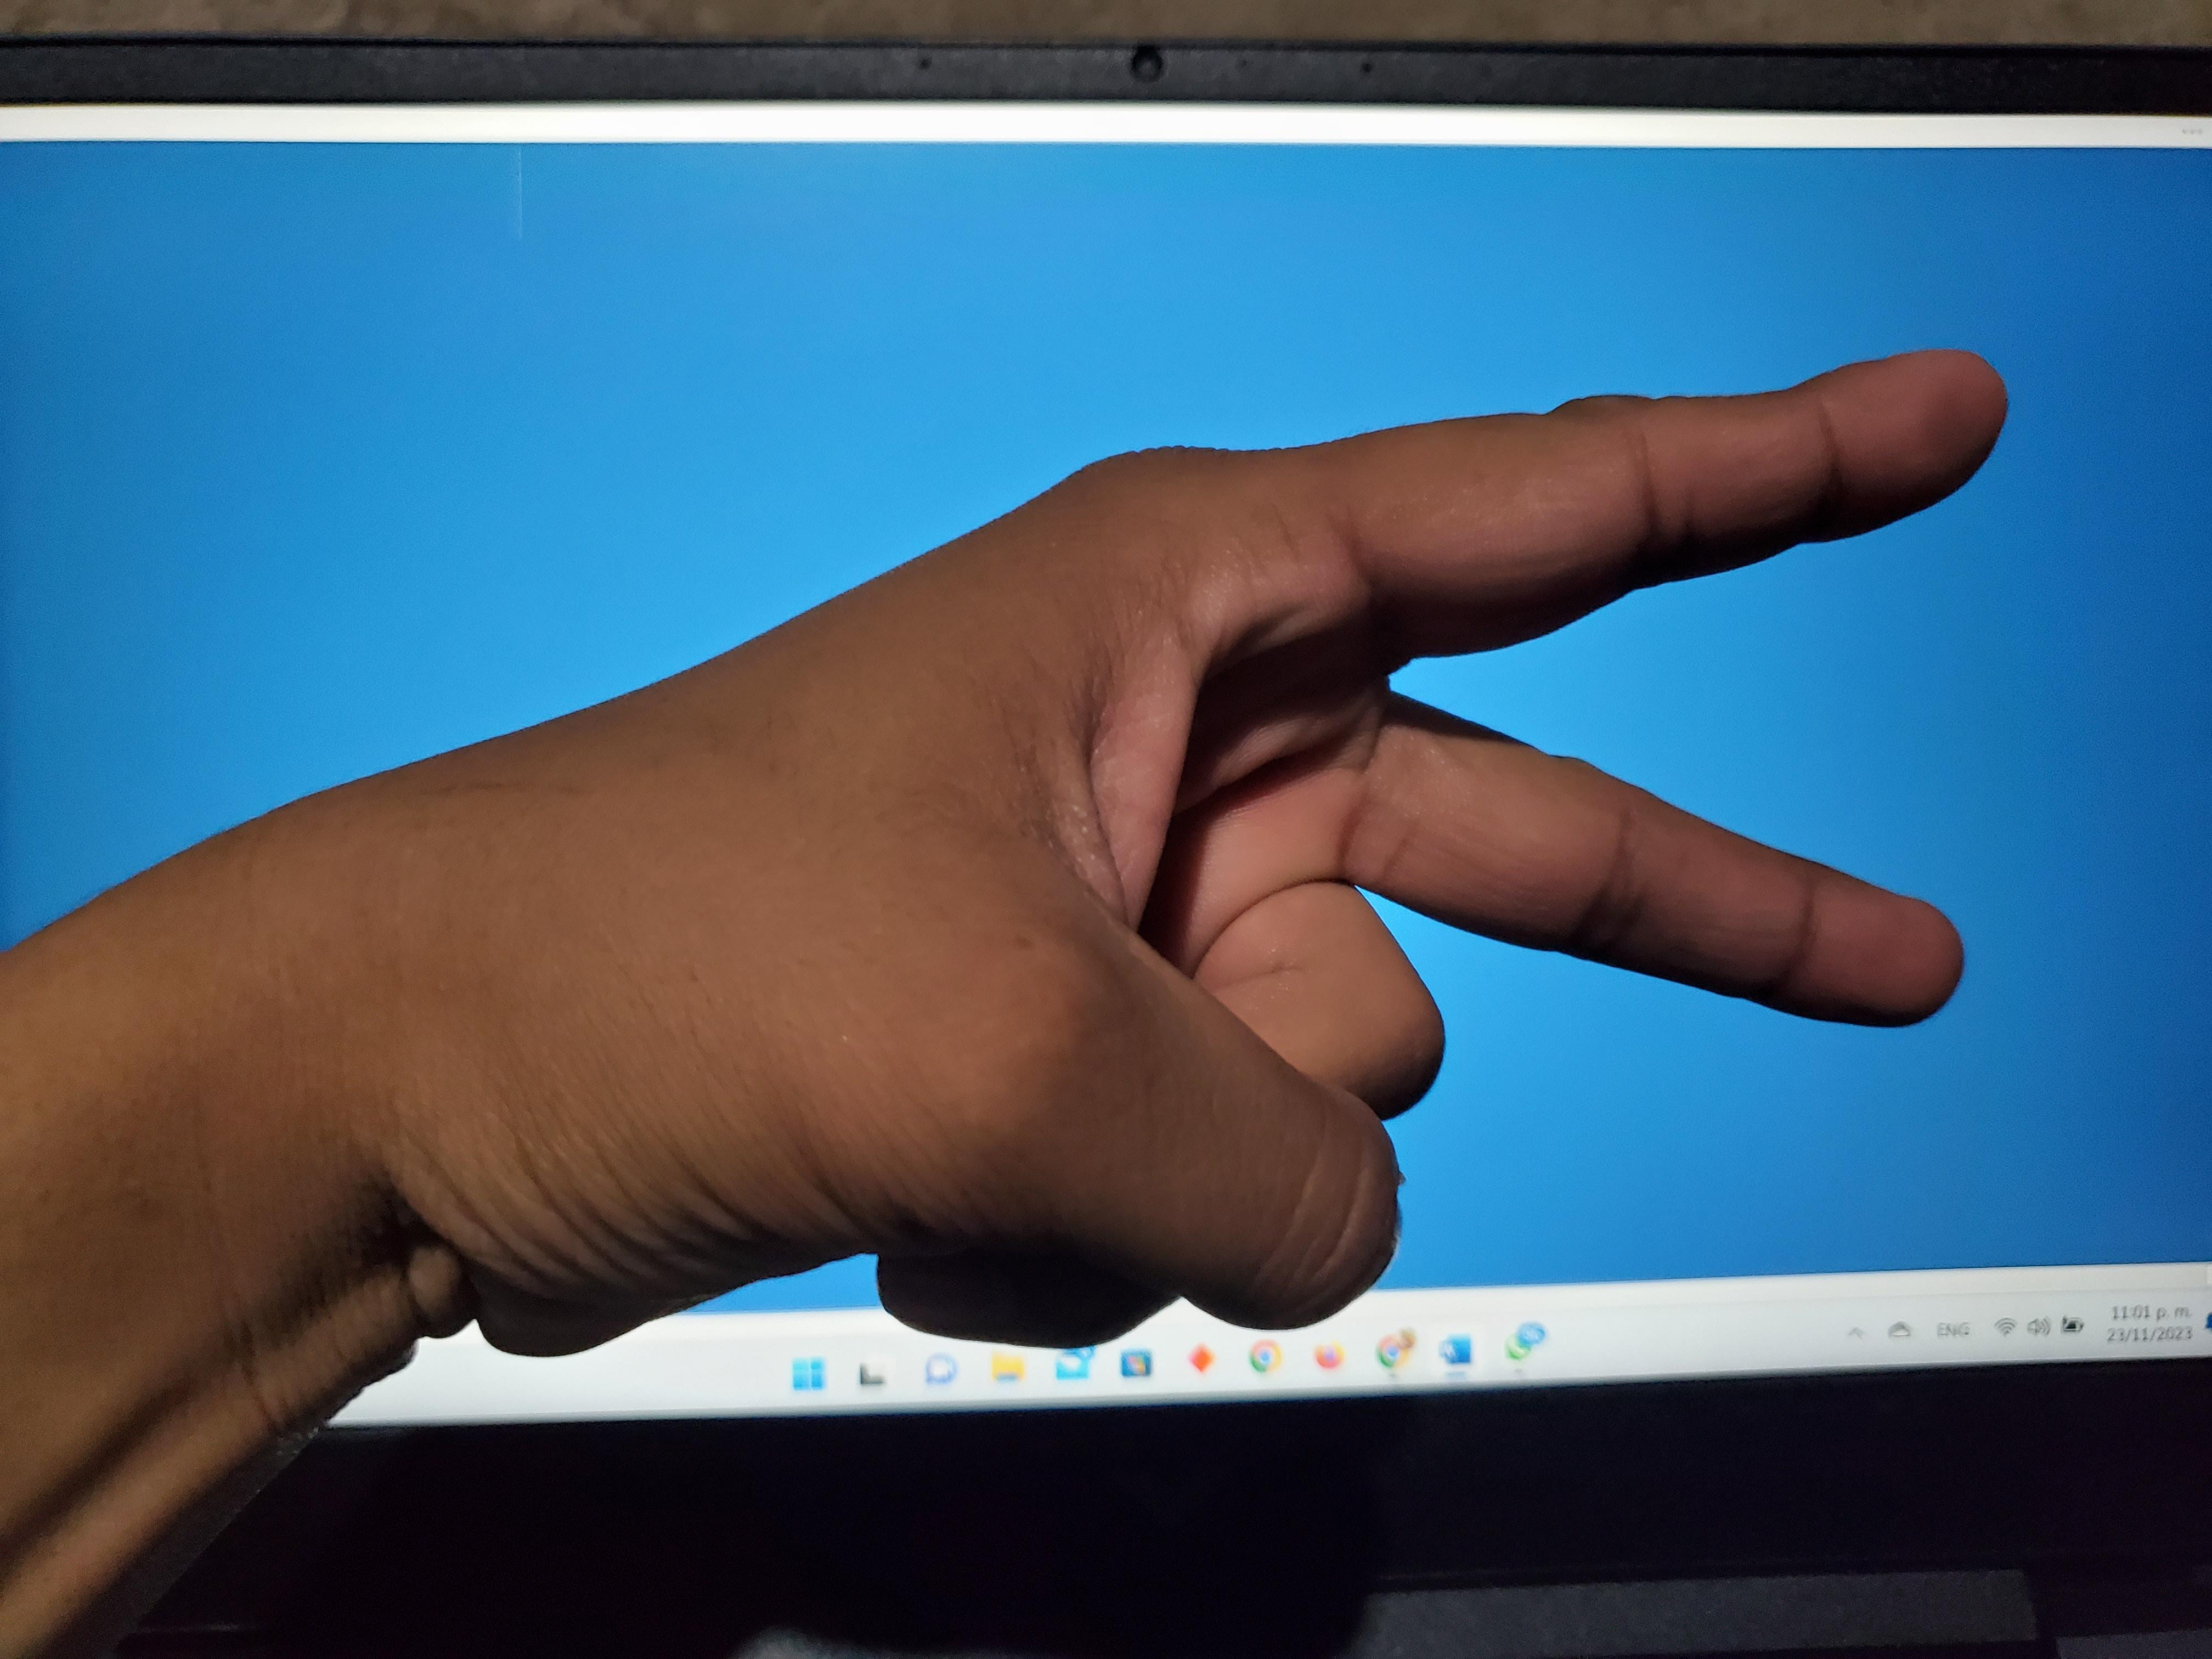Scissor: (28, 112, 2191, 1570)
